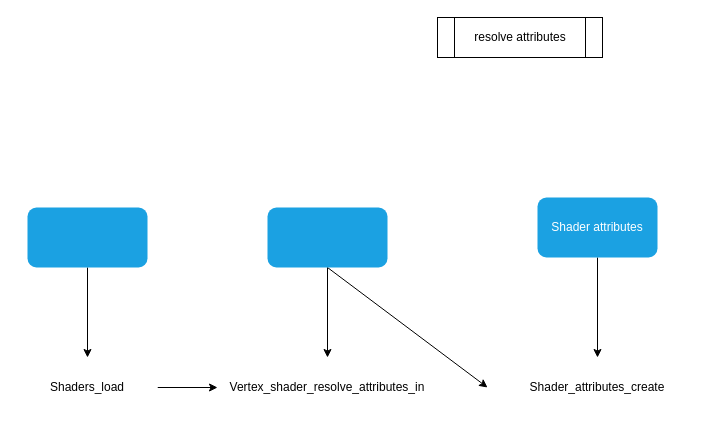
This 724x435 diagram has some shape labels left out. Each missing label, with the box of its shape:
Gl Shaders: (27, 207, 147, 267)
Shader builder: (267, 207, 387, 267)
